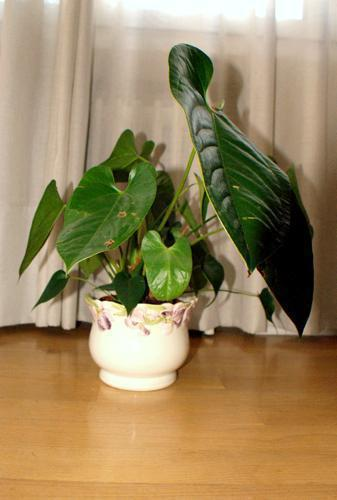Matera: (25, 39, 318, 390)
